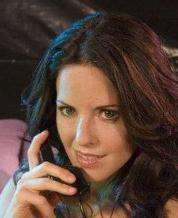face: (56, 100, 120, 168)
